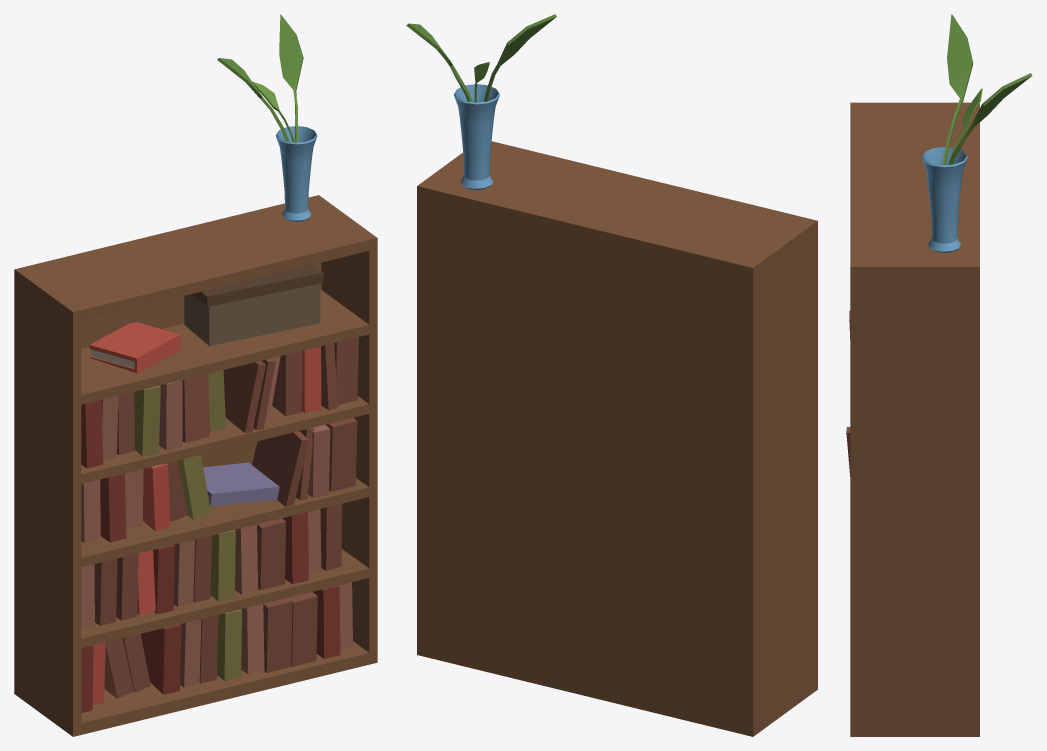
File: Book Shelf.fbx
The picture shows the model from 3 angles, left to right: view 1: azimuth 30°, elevation 25°; view 2: azimuth 150°, elevation 25°; view 3: azimuth 270°, elevation 25°; orthographic projection. The views are drawn at different scales.
Parts seen in each view (by area): view 1: Cube.284, Cube.335, Cube.345, Circle.020, Cube.321, Cube.303, Cube.315, Cube.337, Cube.341, Cube.327, Cube.319, Cube.342 (+44 smaller); view 2: Cube.284, Circle.020, Plane.040; view 3: Cube.284, Circle.020, Plane.040, Plane.041, Plane.042.
Boxes of the visible parts, bbox=[...] form: Cube.284: bbox=[14, 195, 377, 736]; Cube.335: bbox=[184, 264, 323, 346]; Cube.345: bbox=[89, 322, 180, 373]; Circle.020: bbox=[275, 126, 317, 221]; Cube.321: bbox=[252, 431, 309, 506]; Cube.303: bbox=[203, 462, 279, 506]; Cube.315: bbox=[223, 361, 265, 432]; Cube.337: bbox=[140, 624, 181, 694]; Cube.341: bbox=[263, 598, 292, 672]; Cube.327: bbox=[257, 518, 286, 590]; Cube.319: bbox=[325, 418, 357, 491]; Cube.342: bbox=[288, 592, 317, 666]; Cube.284: bbox=[417, 141, 817, 736]; Circle.020: bbox=[453, 84, 499, 189]; Plane.040: bbox=[484, 14, 556, 101]; Cube.284: bbox=[850, 102, 979, 736]; Circle.020: bbox=[921, 147, 967, 252]; Plane.040: bbox=[942, 14, 973, 165]; Plane.041: bbox=[949, 73, 1032, 164]; Plane.042: bbox=[948, 88, 982, 164].
Bounding box in the file's own units: 6000 × 2873 × 11276.
